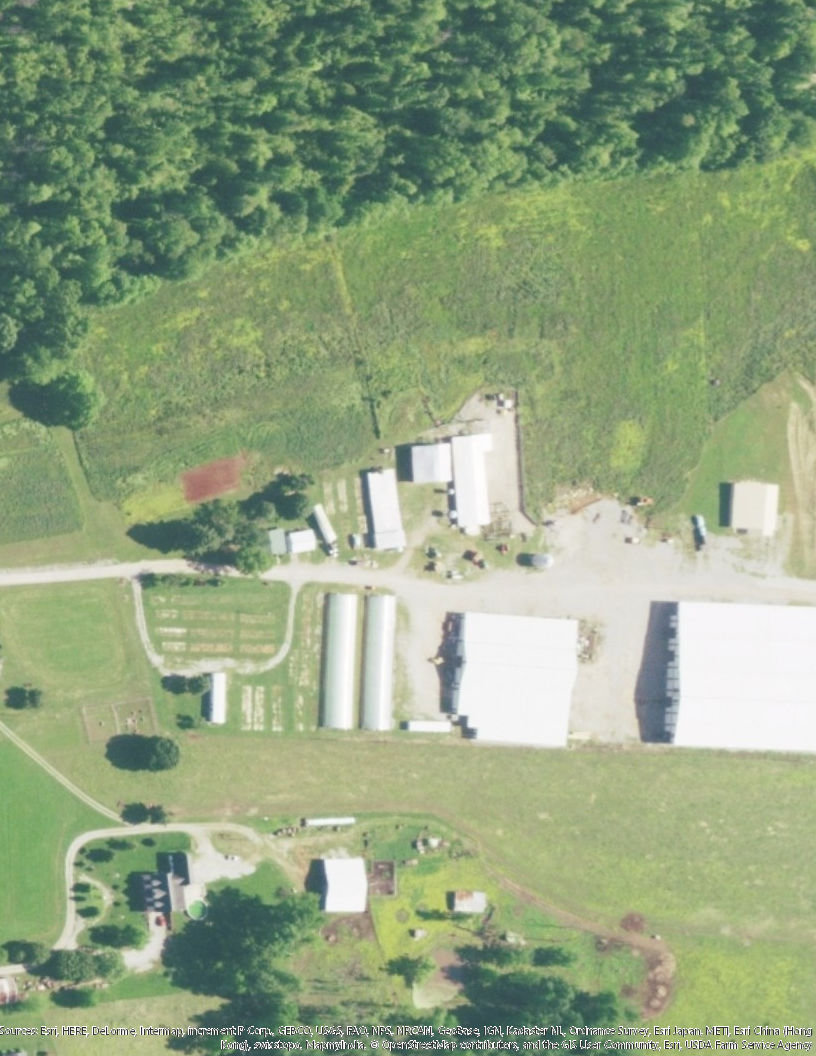cafo: (284, 420, 592, 753), (651, 595, 816, 753)
